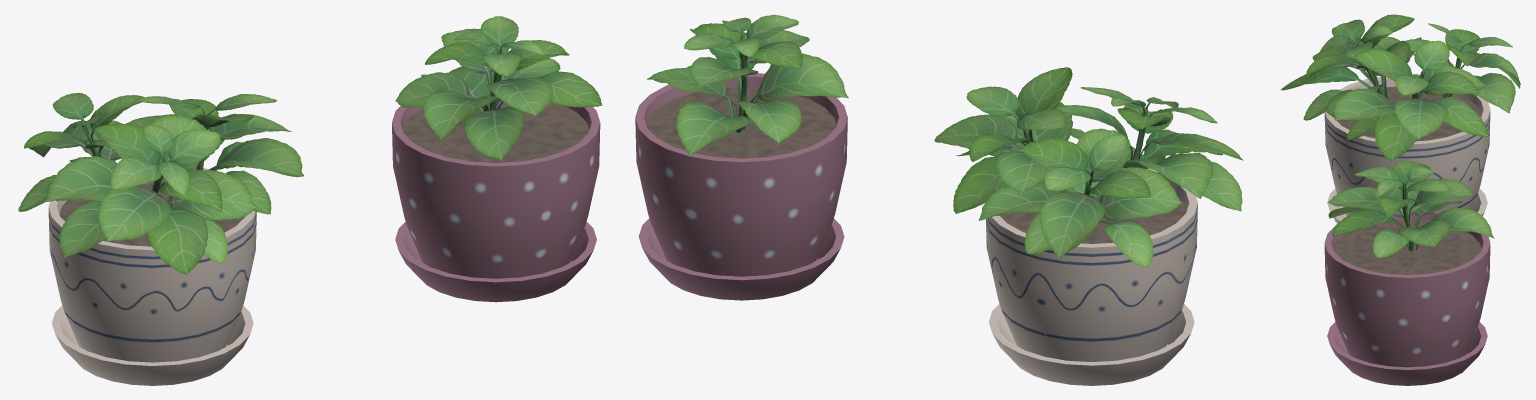
The model's file is basilpots.glb.
The picture shows the model from 3 angles, left to right: view 1: azimuth 30°, elevation 25°; view 2: azimuth 150°, elevation 25°; view 3: azimuth 270°, elevation 25°; orthographic projection. The views are drawn at different scales.
Parts seen in each view (by area): view 1: Pot.001, Basil_A.002, Pot.002, Basil_B.002; view 2: Pot.001, Basil_A.002, Pot.002, Basil_B.002; view 3: Pot.001, Basil_A.002, Pot.002, Basil_B.002.
Boxes of the visible parts, bbox=[...] form: Pot.001: bbox=[392, 100, 600, 302]; Basil_A.002: bbox=[18, 92, 303, 274]; Pot.002: bbox=[48, 168, 256, 385]; Basil_B.002: bbox=[395, 16, 602, 160]; Pot.001: bbox=[635, 73, 847, 300]; Basil_A.002: bbox=[934, 67, 1243, 267]; Pot.002: bbox=[986, 167, 1197, 385]; Basil_B.002: bbox=[647, 14, 848, 155]; Pot.001: bbox=[1324, 210, 1490, 385]; Basil_A.002: bbox=[1281, 14, 1520, 161]; Pot.002: bbox=[1324, 76, 1490, 223]; Basil_B.002: bbox=[1327, 160, 1494, 257].
Size of the model in its own units: 0.4766 by 0.1991 by 0.2301.
Materials: 3 (3 with a texture image).
